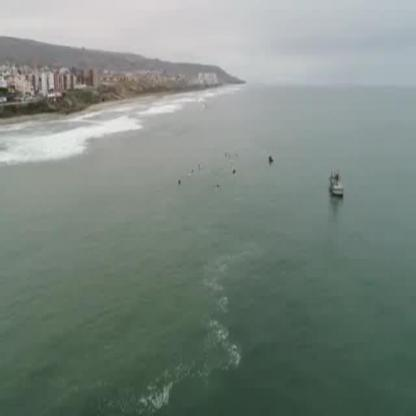Boat: (324, 169, 348, 200)
